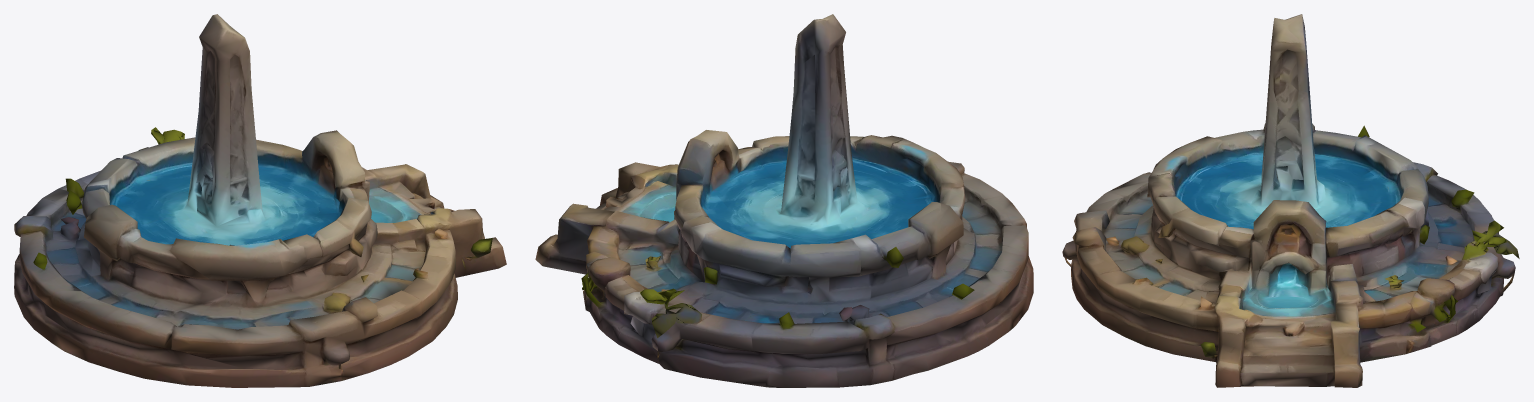
Rendered from fountain_blue.glb.
3 views of the same model, side by side, from view 1: azimuth 30°, elevation 25°; view 2: azimuth 150°, elevation 25°; view 3: azimuth 270°, elevation 25° (orthographic). The views are drawn at different scales.
Parts seen in each view (by area): view 1: tripo_node_2743f40d-a345-41b3-9584-5a4e71d39714; view 2: tripo_node_2743f40d-a345-41b3-9584-5a4e71d39714; view 3: tripo_node_2743f40d-a345-41b3-9584-5a4e71d39714.
Boxes of the visible parts, x1,y1,x2,y2 form: tripo_node_2743f40d-a345-41b3-9584-5a4e71d39714: (14,14,506,387); tripo_node_2743f40d-a345-41b3-9584-5a4e71d39714: (535,14,1033,387); tripo_node_2743f40d-a345-41b3-9584-5a4e71d39714: (1062,14,1519,387).
Bounding box in the file's own units: 0.9997 × 0.6254 × 0.9896.
1 material, 1 textured.
